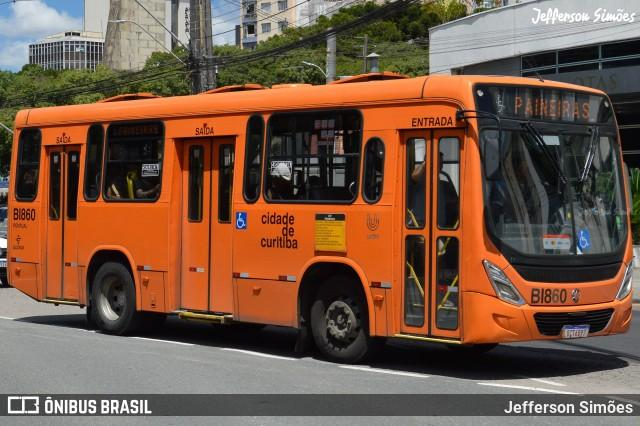PAINEIRAS: (508, 90, 596, 122)
